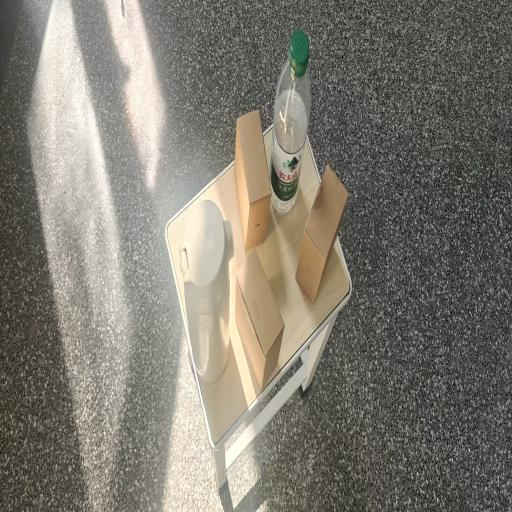bottle: (177, 200, 234, 383), (270, 30, 311, 214)
box: (296, 165, 348, 303), (235, 249, 285, 390), (234, 111, 271, 250)
